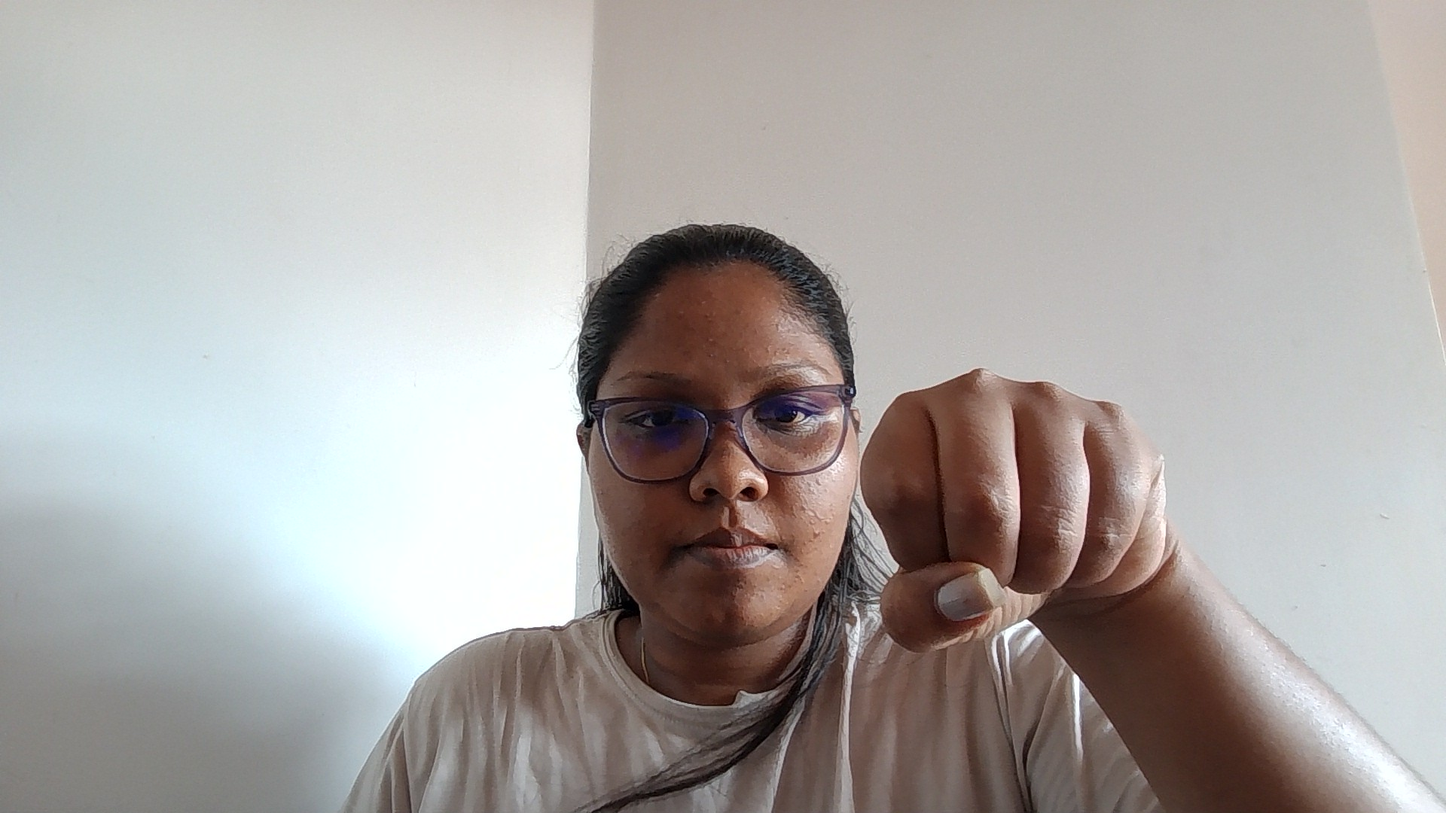Yes: (811, 314, 1212, 733)
